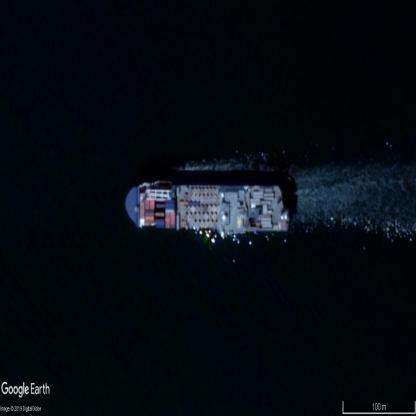ship: (126, 187, 289, 233)
